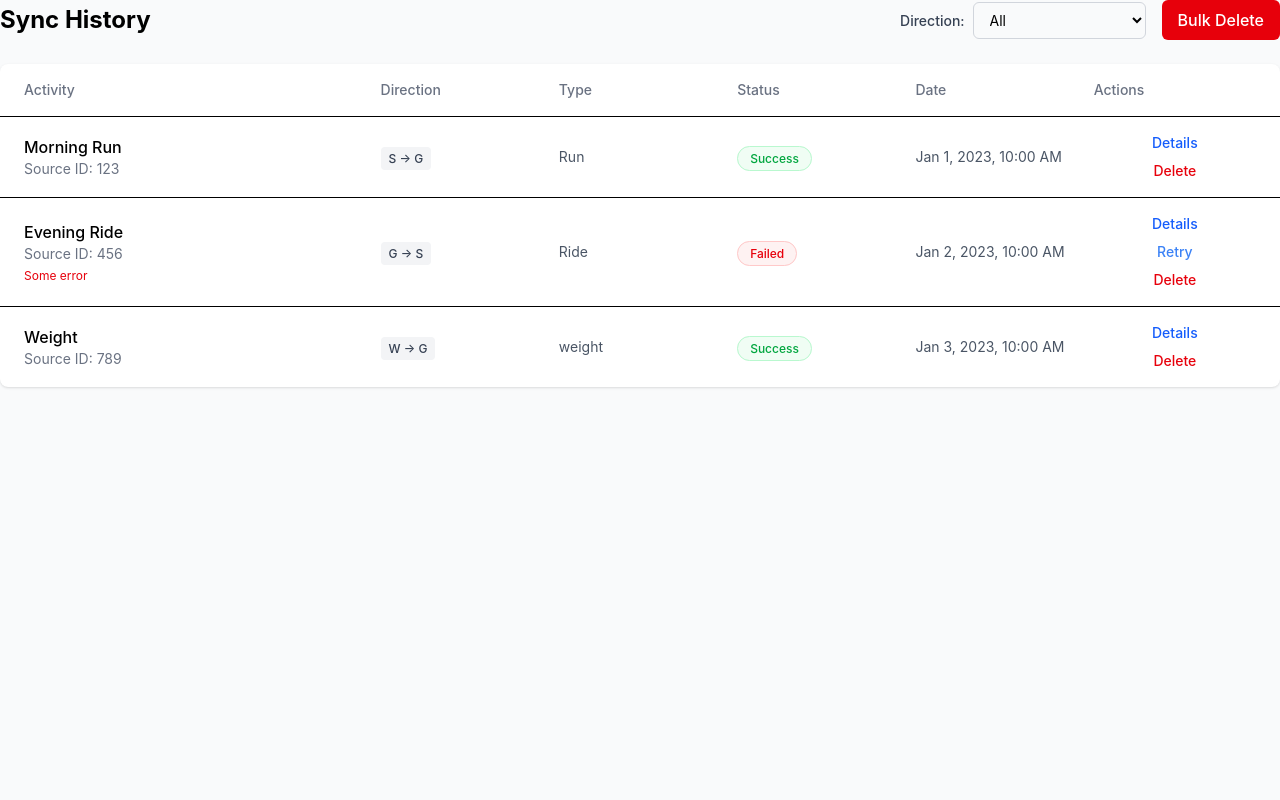
Test: SyncHistoryPage › views details
The image size is (1280, 800).
What coordinates should you click on to do the following:
click the button "Details" next to "Jan 1, 2023, 10:00 AM"
I would click on:
 (1175, 143)
Its box is left=1094, top=133, right=1256, bottom=153.
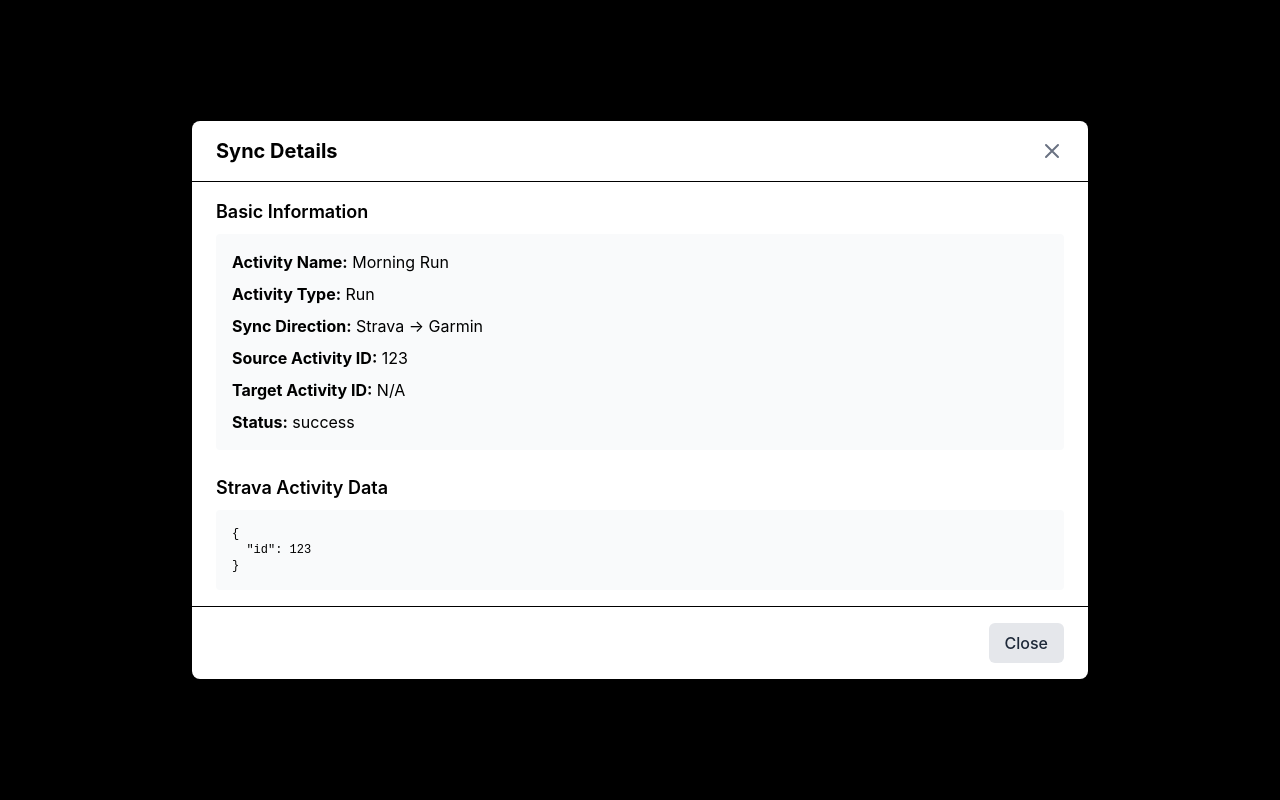
Result: the heading "Sync Details" is shown at left=216, top=137, right=338, bottom=165
Result: the text "Source Activity ID:" is shown at left=232, top=348, right=377, bottom=368
Note: Close modal
What coordinates should you click on to do the following:
click the button "Close"
I would click on:
 (1026, 643)
Its box is left=988, top=623, right=1064, bottom=663.
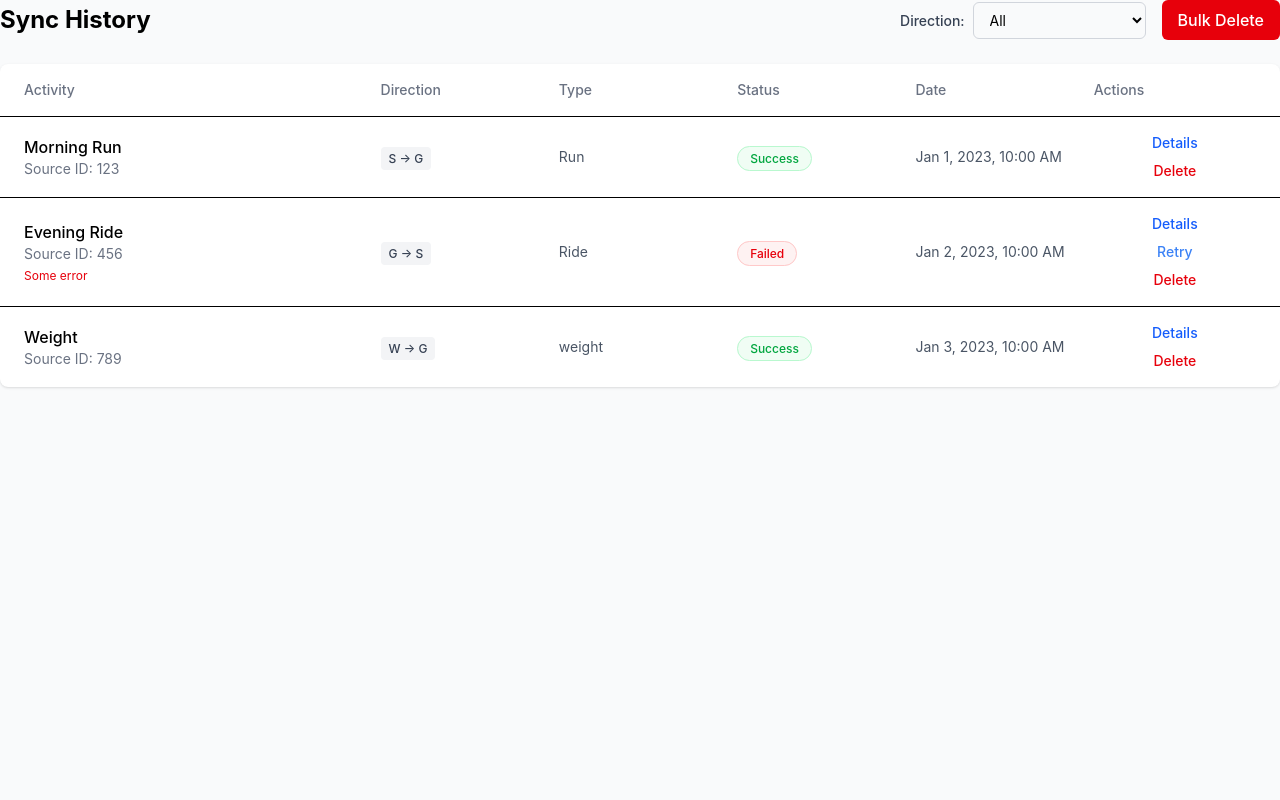
Result: the heading "Sync Details" is gone
